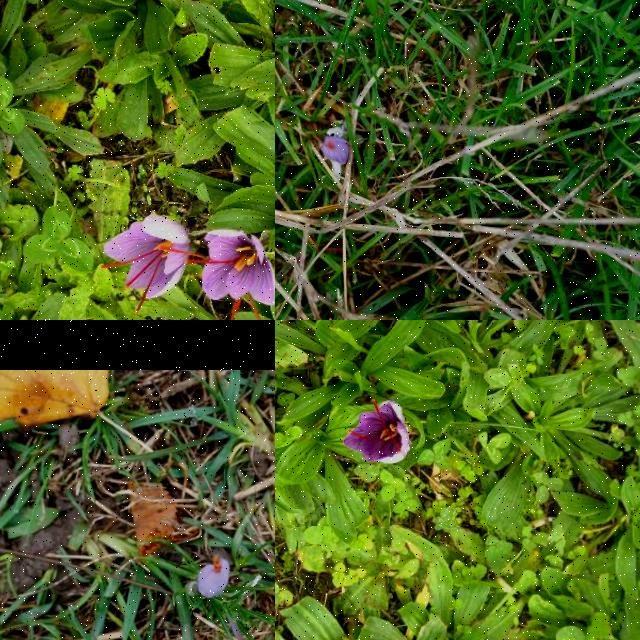flower: (101, 213, 190, 313), (196, 231, 275, 320), (342, 399, 412, 463), (198, 556, 230, 598), (323, 136, 349, 164)
